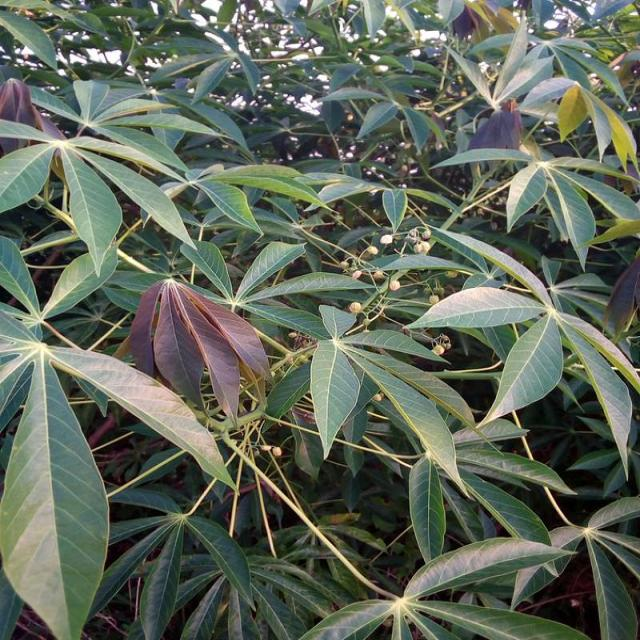cassava leaf: (1, 1, 638, 638), (0, 347, 110, 638)
